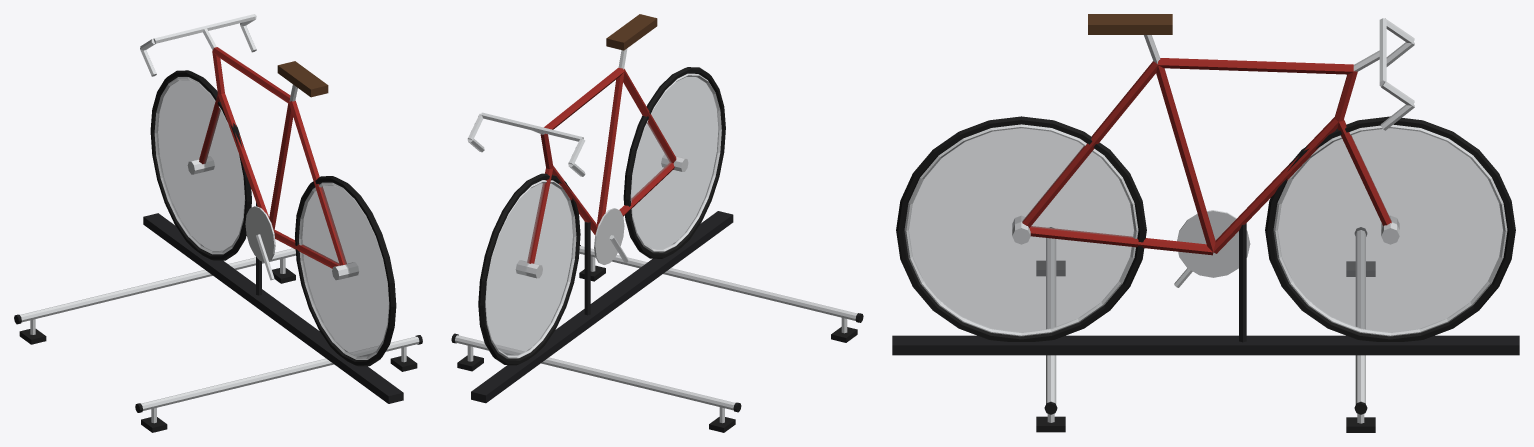
The model's file is roofrack_bike_modern.glb.
3 views of the same model, side by side, from view 1: azimuth 30°, elevation 25°; view 2: azimuth 150°, elevation 25°; view 3: azimuth 270°, elevation 25° (orthographic). The views are drawn at different scales.
Parts seen in each view (by area): view 1: Bike, RoofRack, Tray; view 2: Bike, RoofRack, Tray; view 3: Bike, Tray, RoofRack.
Boxes of the visible parts, left/top/right/bottom form: Bike: left=140, top=14, right=396, bottom=366; RoofRack: left=14, top=248, right=422, bottom=432; Tray: left=143, top=213, right=403, bottom=403; Bike: left=467, top=14, right=725, bottom=365; RoofRack: left=451, top=245, right=863, bottom=432; Tray: left=471, top=211, right=733, bottom=403; Bike: left=896, top=14, right=1515, bottom=342; Tray: left=892, top=335, right=1519, bottom=355; RoofRack: left=1036, top=227, right=1375, bottom=432.
Bounding box in the file's own units: 1.13 × 1.09 × 1.7.
